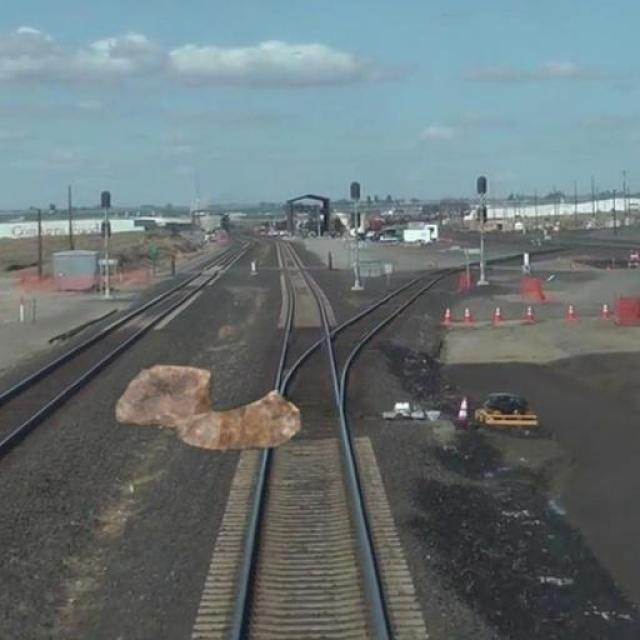Stone: (111, 358, 303, 455)
